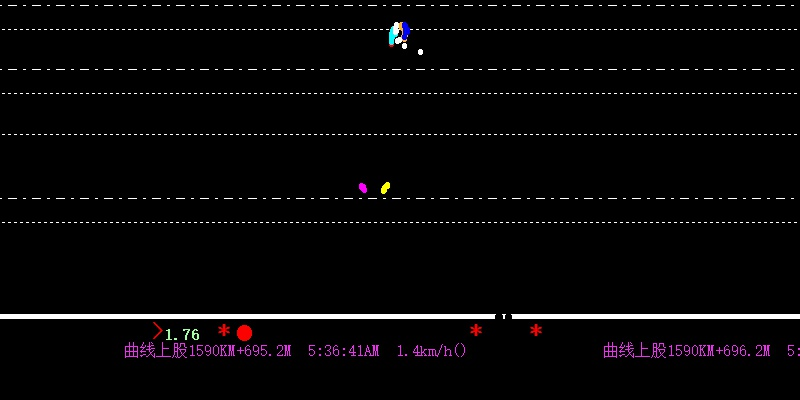circle: (235, 321, 253, 346)
face_2: (387, 20, 408, 49)
star: (215, 320, 232, 340), (526, 322, 544, 337), (468, 321, 482, 335)
